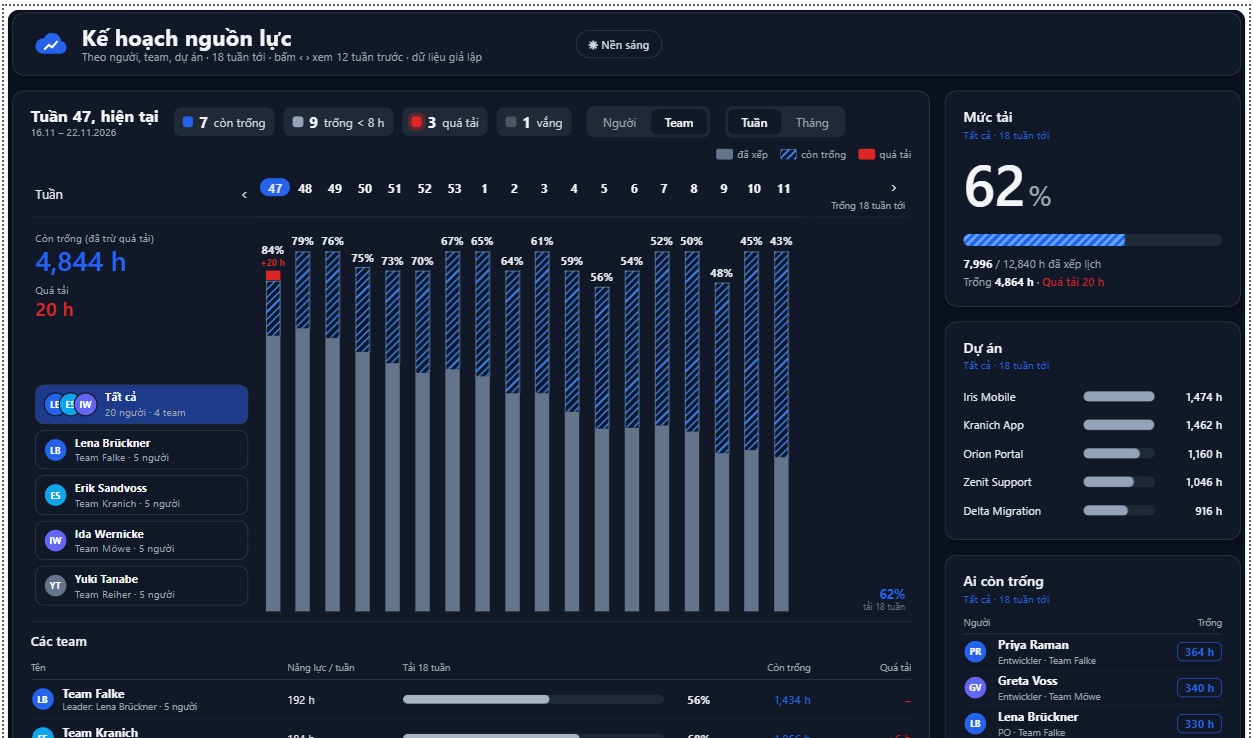

What the dashboard file says about the page in this screenshot:
{"tool":"powerbi","page":{"name":"Page 1","canvas":[1660,1720],"ordinal":0},"visuals":[{"type":"htmlContent443BE3AD55E043BF878BED274D3A6855","fields":{"content":["_Measure.HTML Ressourcenplanung"]},"box":[0,0,1660,1720],"z":0}]}

Visuals, with their boxes in screenshot pixels (x1, y1, x2, y2):
htmlContent443BE3AD55E043BF878BED274D3A6855 - _Measure.HTML Ressourcenplanung: (left=542, top=7, right=1244, bottom=734)
